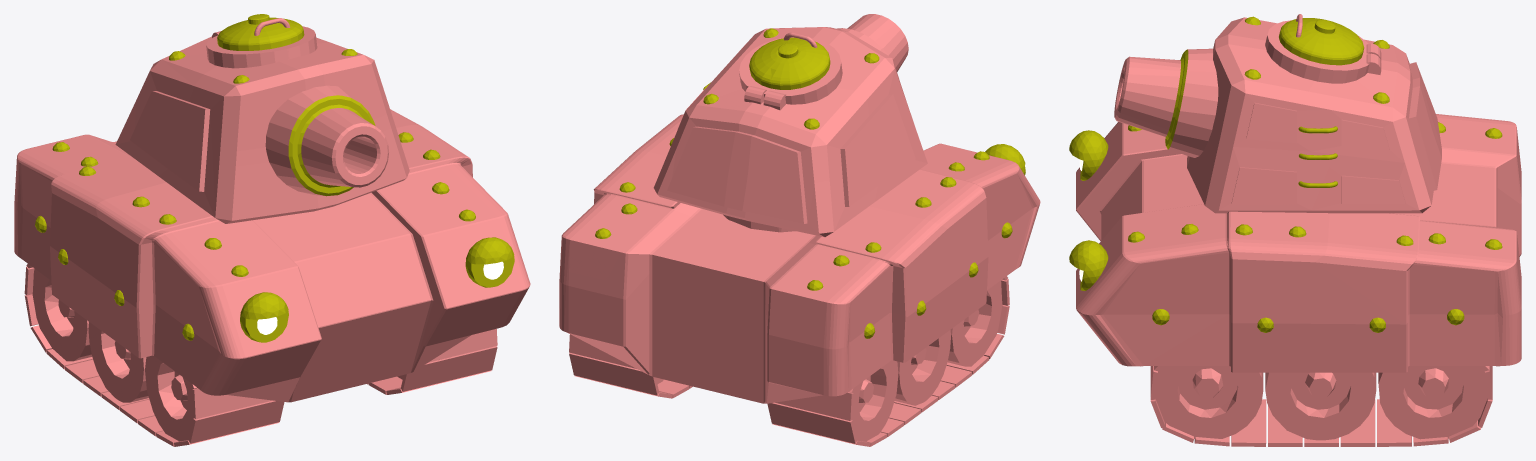
The model's file is tankk.gltf.
3 renders of one model, left to right at view 1: azimuth 30°, elevation 25°; view 2: azimuth 150°, elevation 25°; view 3: azimuth 270°, elevation 25°, orthographic. The views are drawn at different scales.
Visible parts, largest first — view 1: Tank_P0, Turret.014, Canon.014, Tracks.018, Wheels.024, Entrance.014, Lights.008, Bolts.007; view 2: Tank_P0, Turret.014, Tracks.018, Wheels.024, Entrance.014, Bolts.007, Canon.014, Lights.008, Bolts.008; view 3: Tank_P0, Turret.014, Wheels.024, Canon.014, Entrance.014, Tracks.018, Lights.008, Bolts.007, Ladder.012, Bolts.008.
Boxes of the visible parts, x1,y1,x2,y2 form: Tank_P0: [14, 109, 530, 402]; Turret.014: [115, 36, 409, 223]; Canon.014: [265, 85, 388, 196]; Tracks.018: [24, 264, 497, 446]; Wheels.024: [32, 269, 403, 441]; Entrance.014: [206, 14, 317, 68]; Lights.008: [240, 237, 514, 342]; Bolts.007: [35, 132, 475, 340]; Tank_P0: [559, 114, 1040, 403]; Turret.014: [653, 27, 927, 237]; Tracks.018: [569, 276, 1009, 446]; Wheels.024: [656, 280, 1002, 441]; Entrance.014: [739, 32, 842, 110]; Bolts.007: [595, 138, 1012, 338]; Canon.014: [837, 14, 908, 71]; Lights.008: [985, 144, 1025, 175]; Bolts.008: [703, 28, 879, 129]; Tank_P0: [1076, 114, 1521, 372]; Turret.014: [1187, 17, 1441, 213]; Wheels.024: [1155, 366, 1487, 440]; Canon.014: [1114, 48, 1218, 157]; Entrance.014: [1265, 14, 1381, 83]; Tracks.018: [1150, 366, 1492, 446]; Lights.008: [1069, 130, 1108, 290]; Bolts.007: [1128, 122, 1502, 332]; Ladder.012: [1298, 126, 1337, 187]; Bolts.008: [1244, 16, 1389, 103].
Size of the model in its own units: 1.55 by 1.51 by 1.75.
